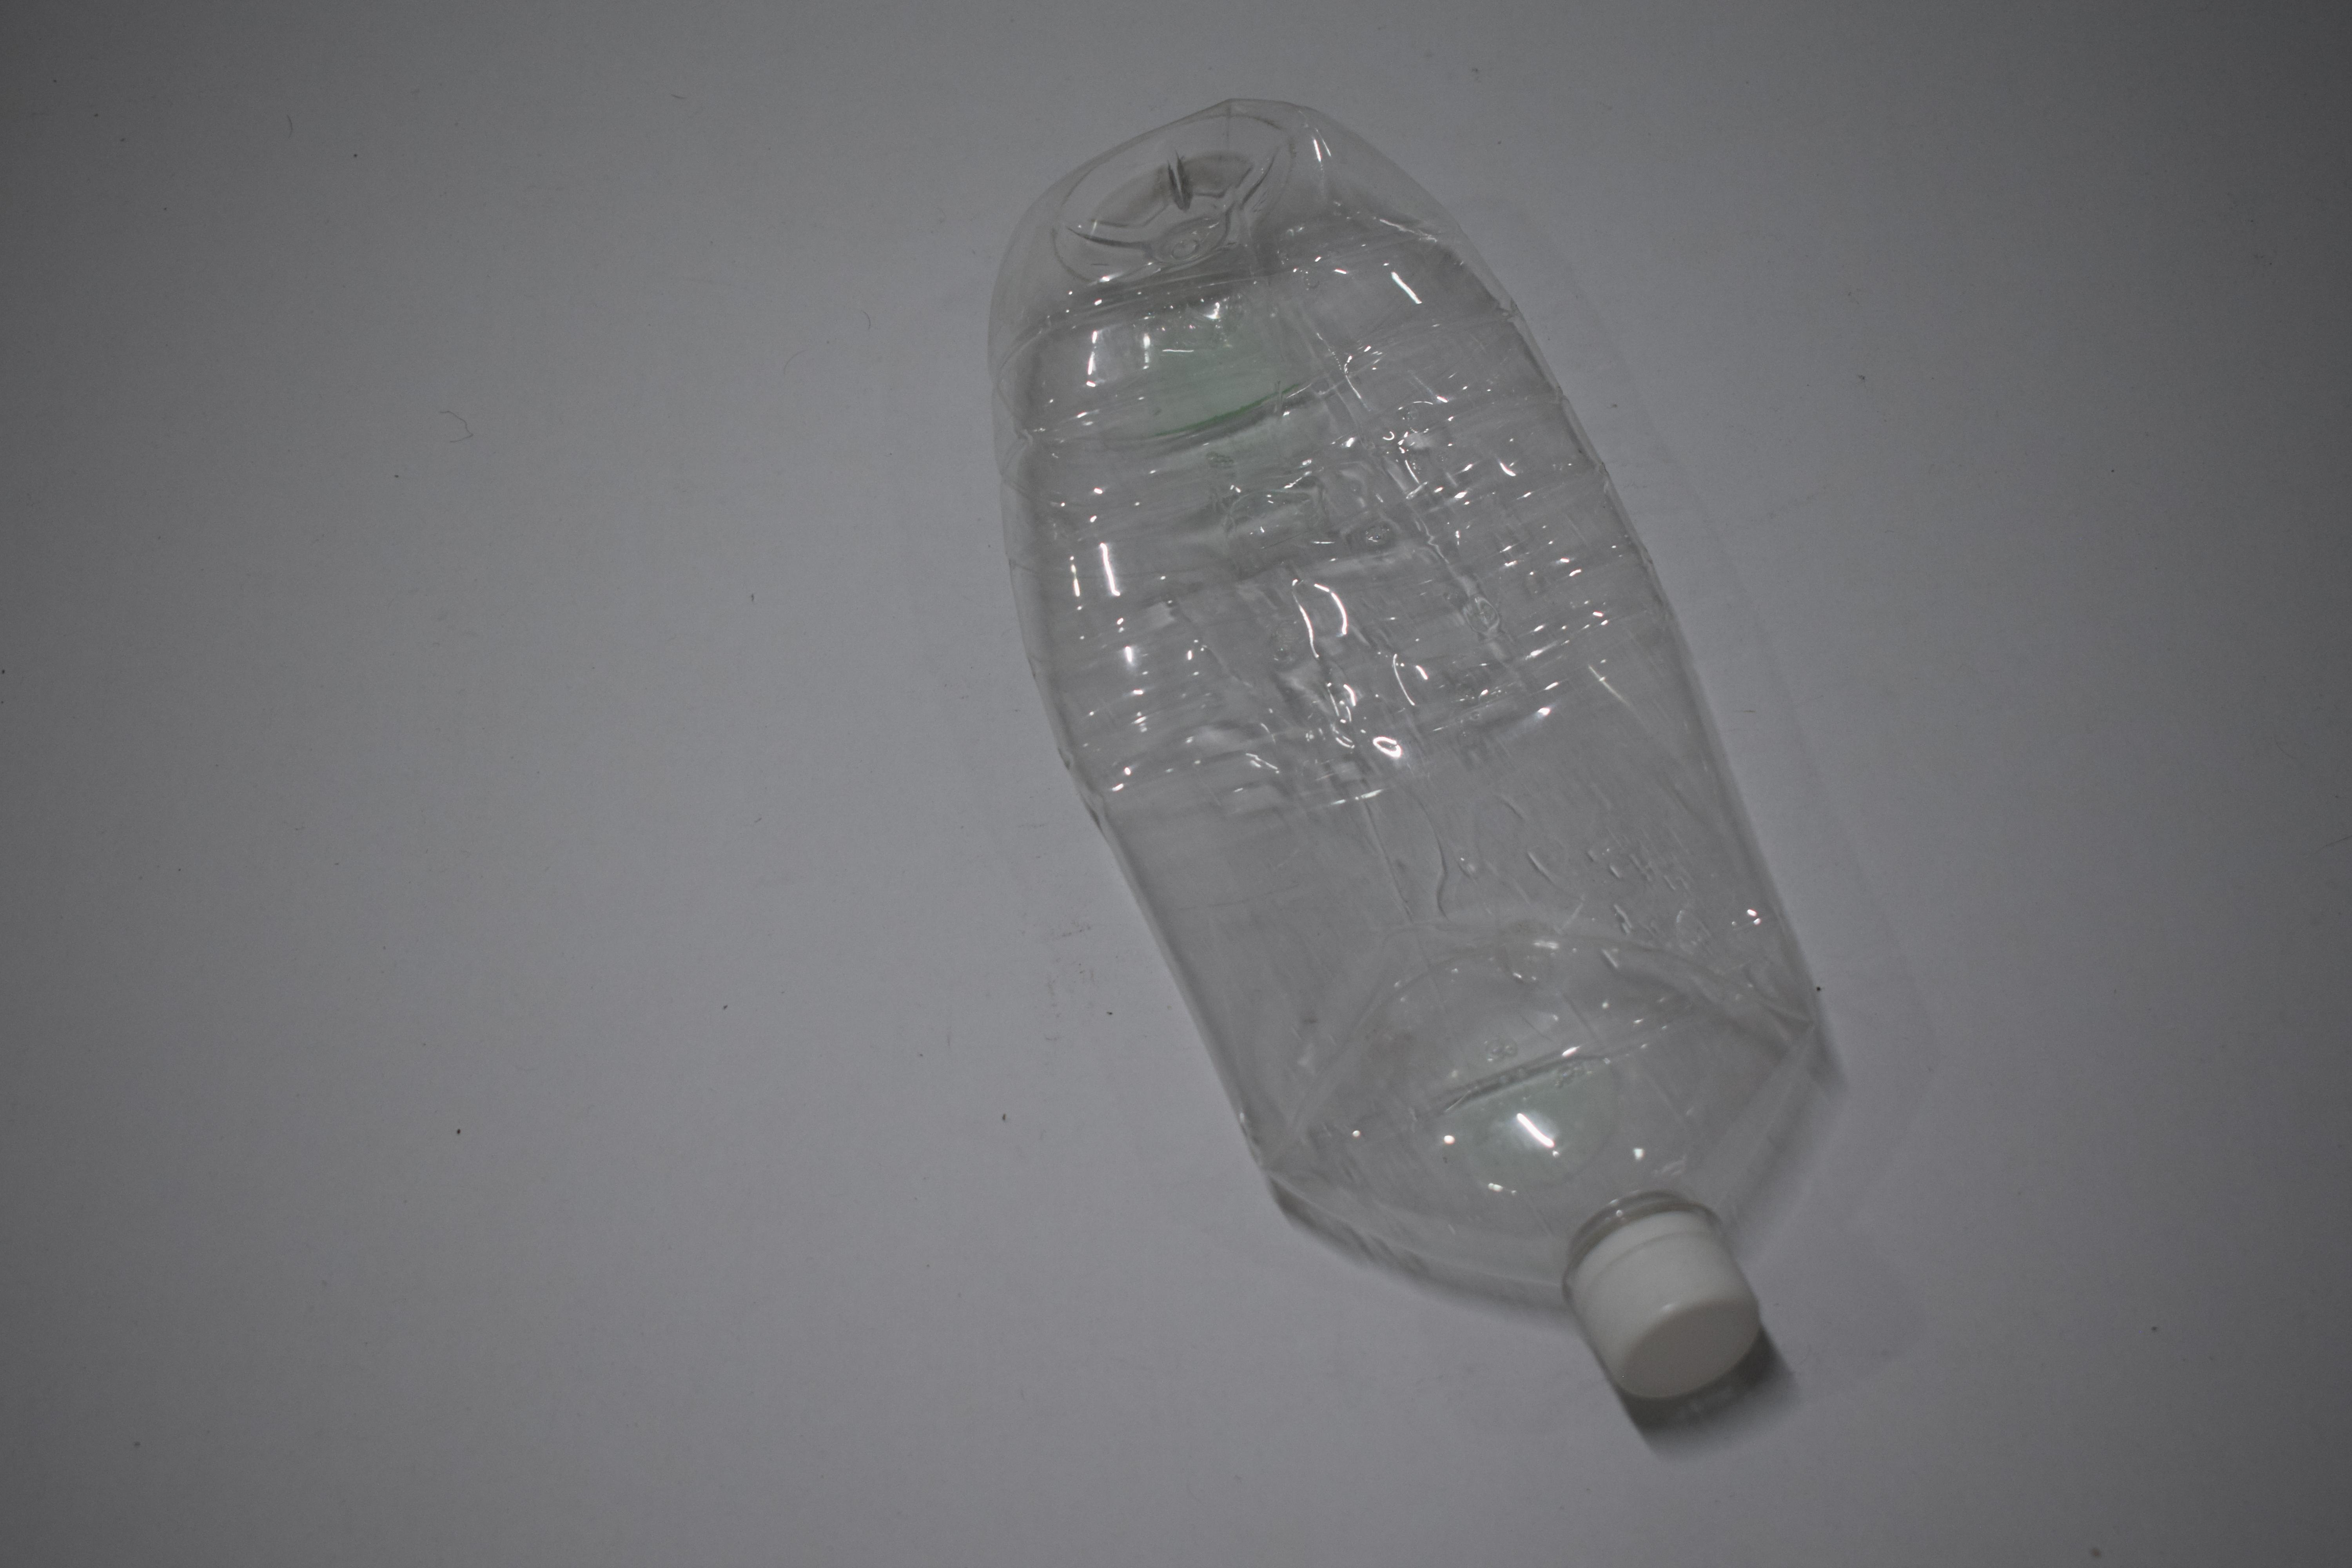bottle: (0, 91, 653, 1419)
